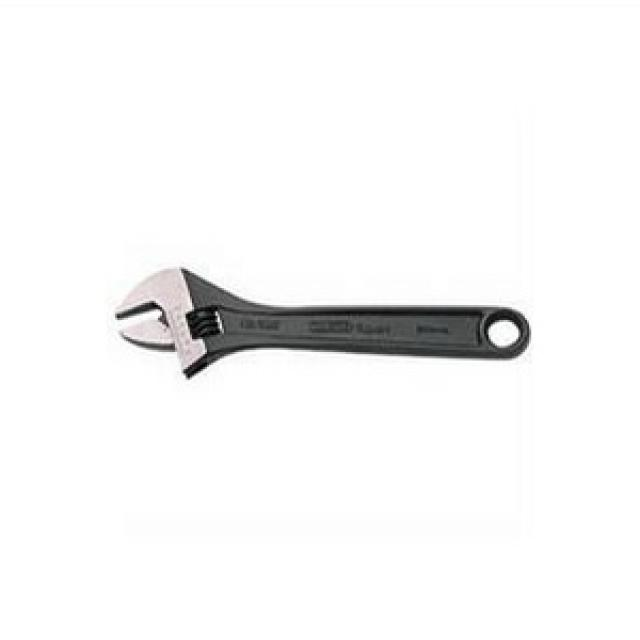wrench: (94, 238, 592, 416)
